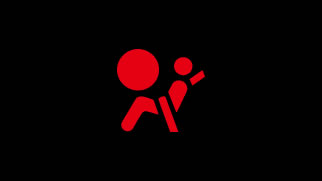Airbag_warning: (115, 42, 208, 138)
